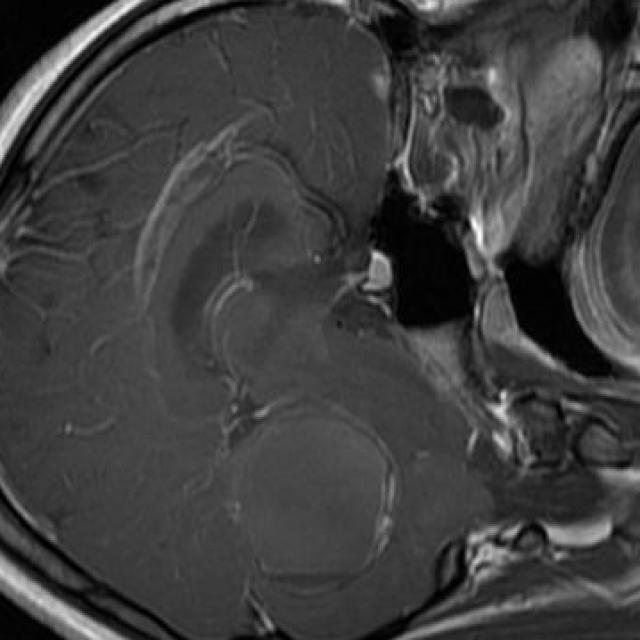glioma: (232, 399, 401, 594)
